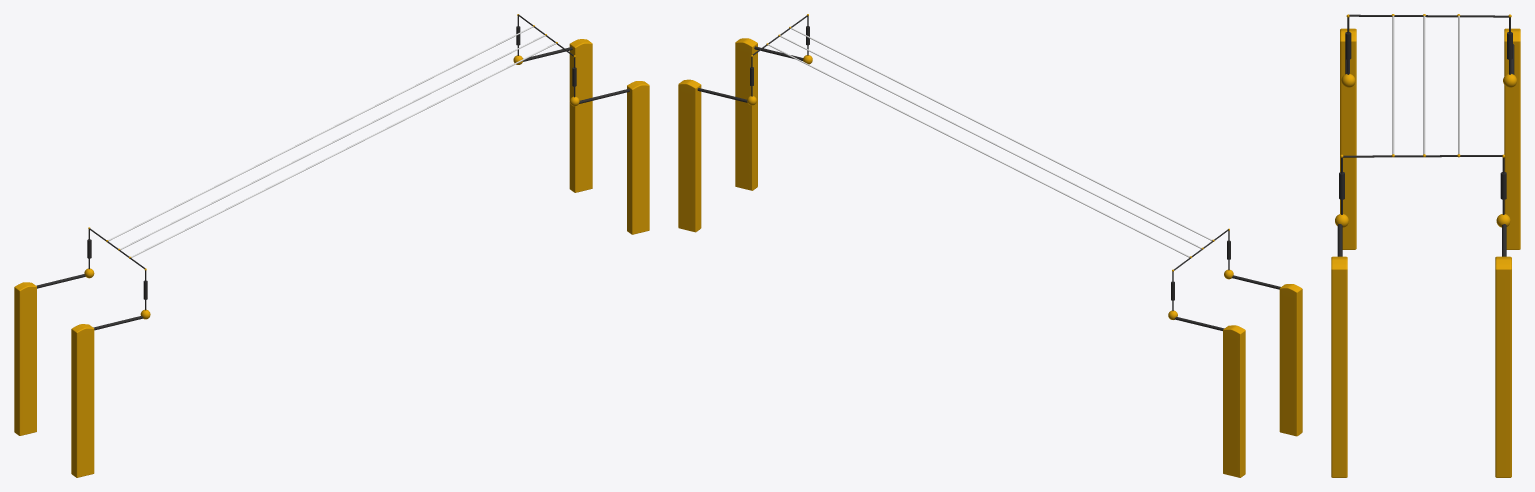
The picture shows the model from 3 angles, left to right: view 1: azimuth 30°, elevation 25°; view 2: azimuth 150°, elevation 25°; view 3: azimuth 270°, elevation 25°; orthographic projection. The views are drawn at different scales.
Visible parts, largest first — view 1: polySurface391, polySurface249, polySurface376; view 2: polySurface391, polySurface249, polySurface376; view 3: polySurface249, polySurface391, polySurface376.
Boxes of the visible parts, x1,y1,x2,y2 form: polySurface391: (14, 227, 150, 477); polySurface249: (513, 14, 649, 234); polySurface376: (108, 26, 556, 257); polySurface391: (1168, 228, 1302, 477); polySurface249: (678, 14, 812, 232); polySurface376: (768, 27, 1212, 257); polySurface249: (1331, 154, 1511, 477); polySurface391: (1340, 14, 1520, 249); polySurface376: (1392, 15, 1459, 154).
Bounding box in the file's own units: 24.31 × 12.28 × 4.87.
